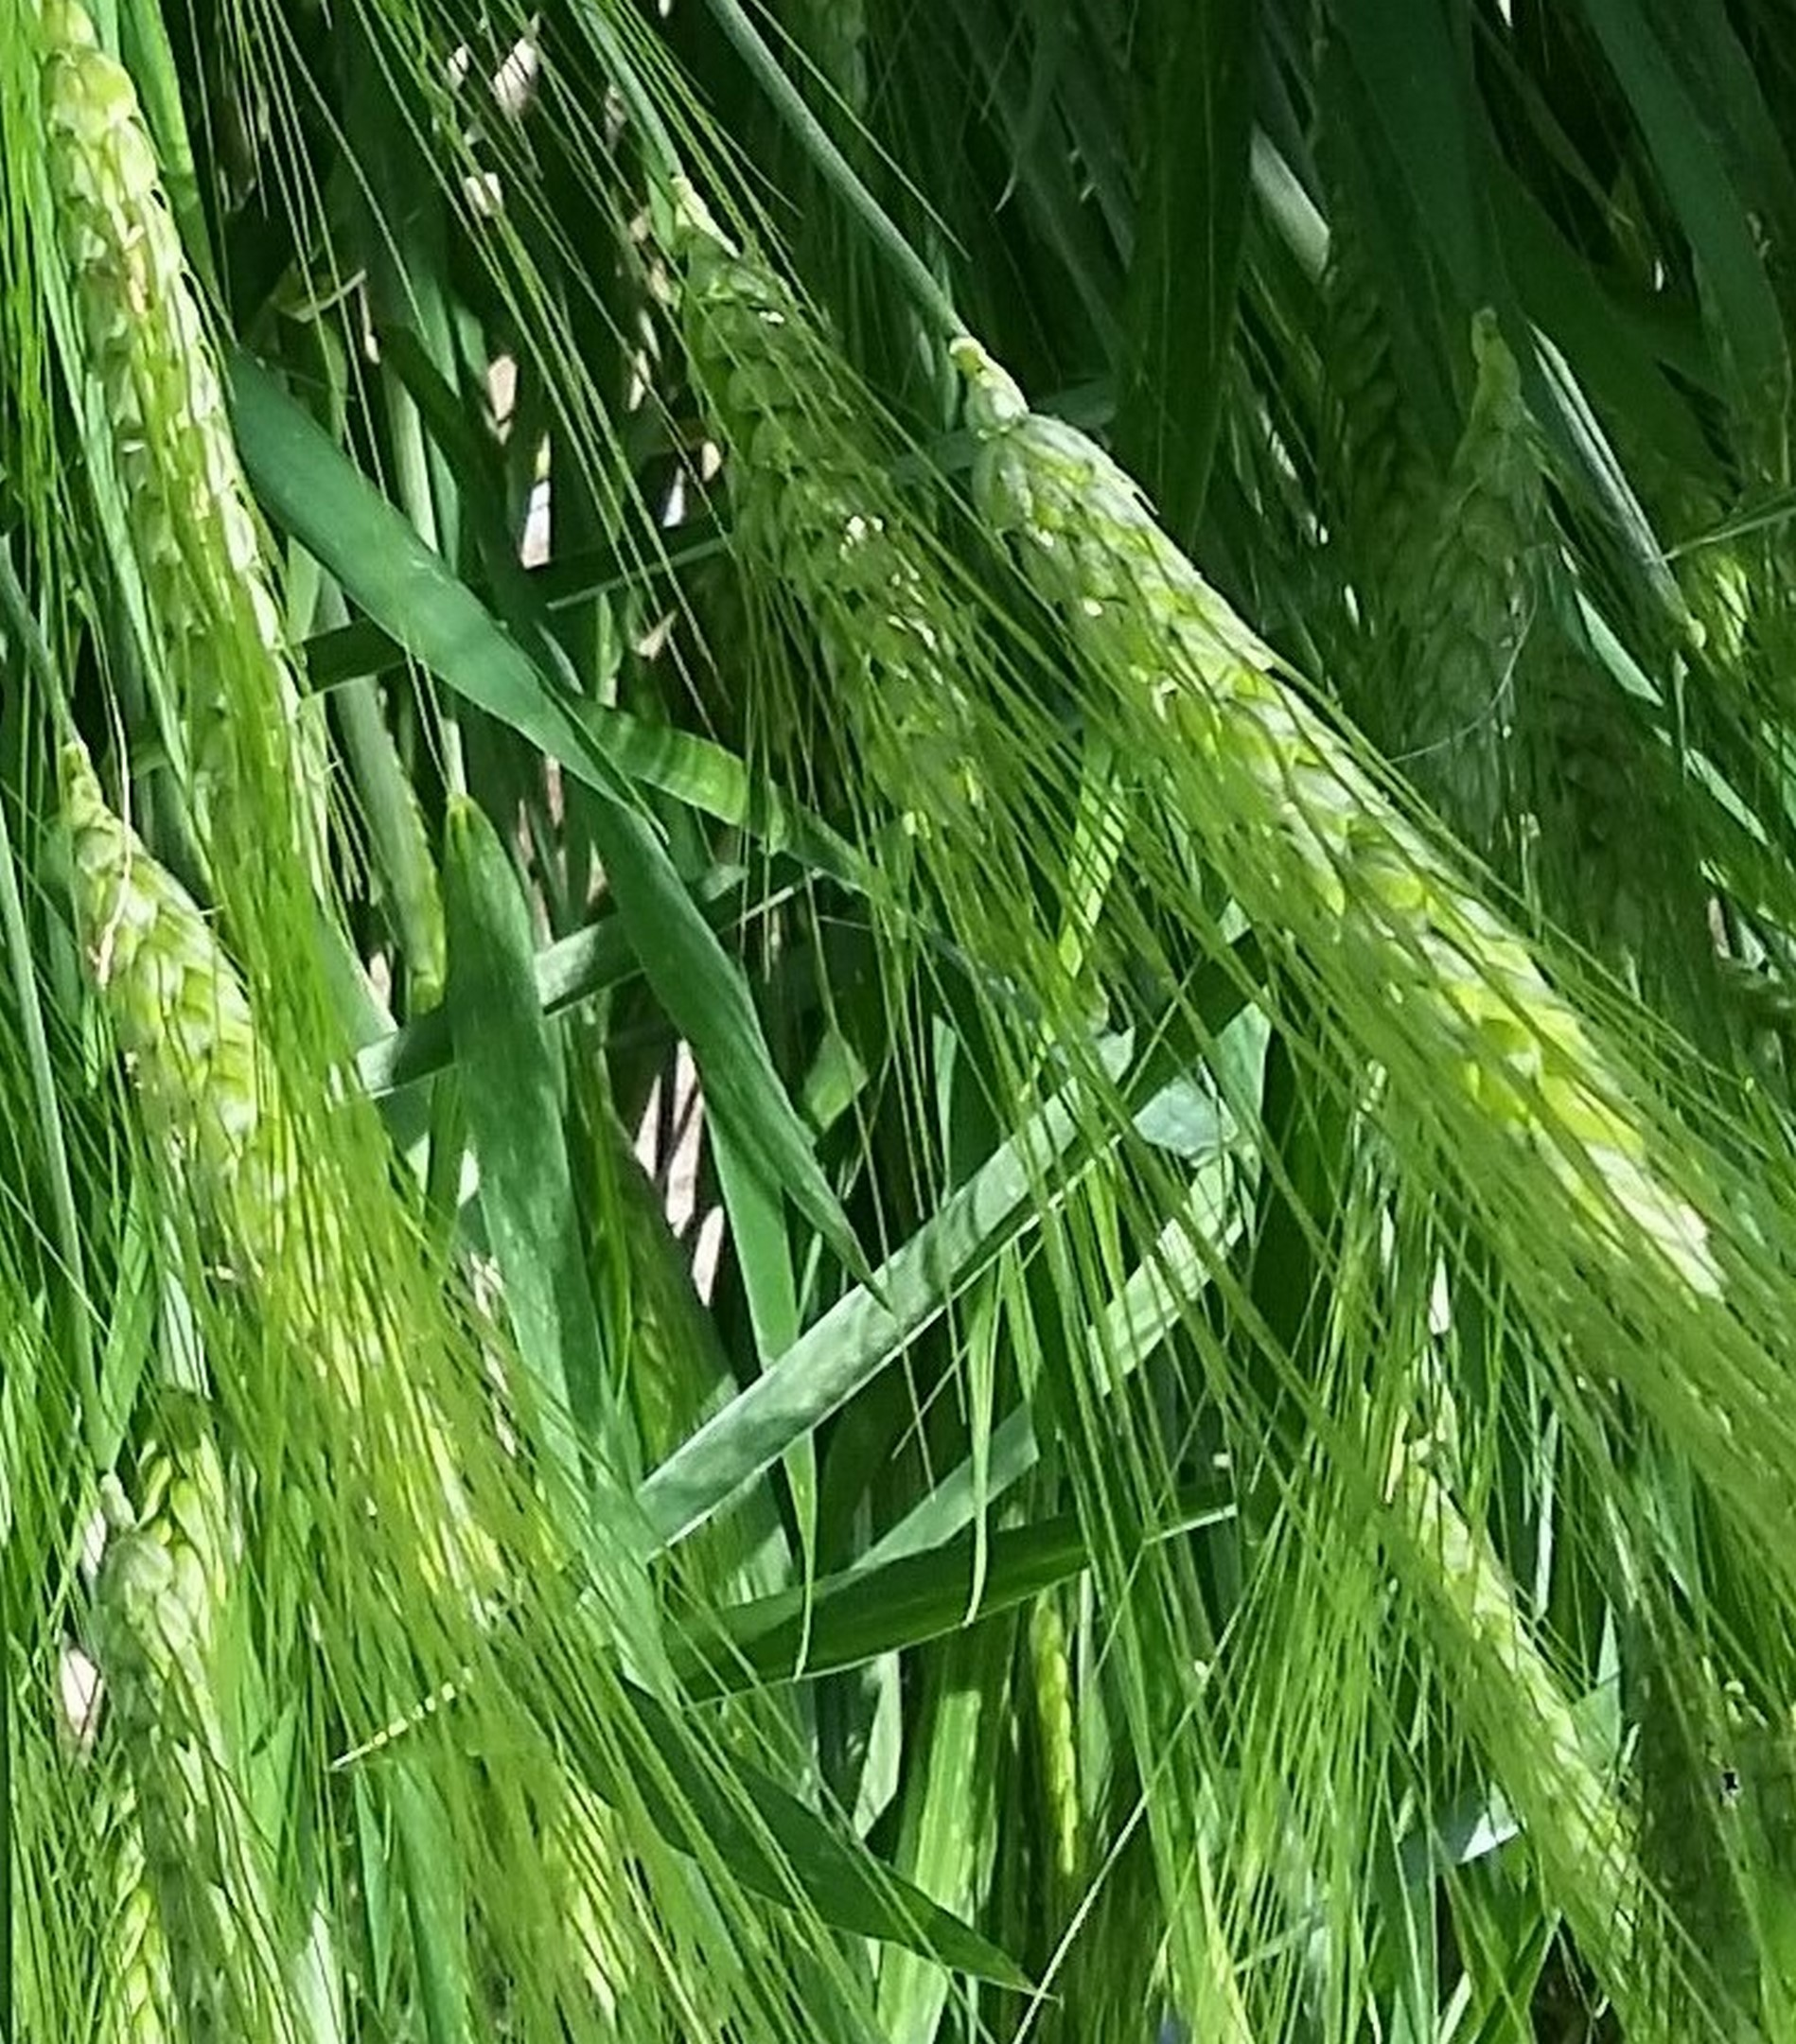Healthy Wheat: (953, 367, 1796, 1330)
